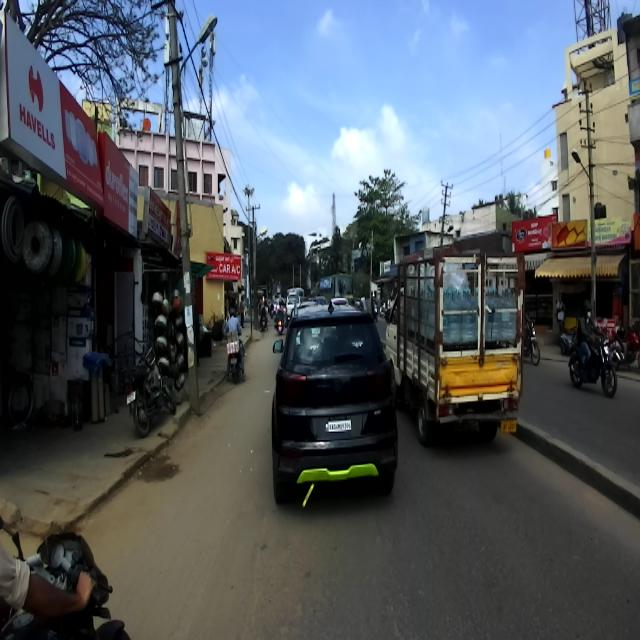car ahead at: (272, 296, 398, 508), (389, 252, 522, 429)
electric pole ahead at: (148, 1, 224, 435)
motorcycle ahead at: (125, 342, 177, 434)
